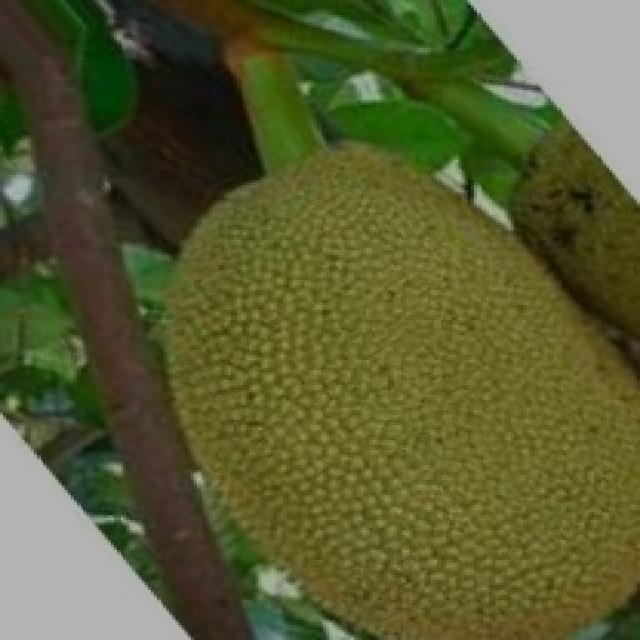Fruit: (172, 102, 634, 412), (277, 260, 637, 640)
